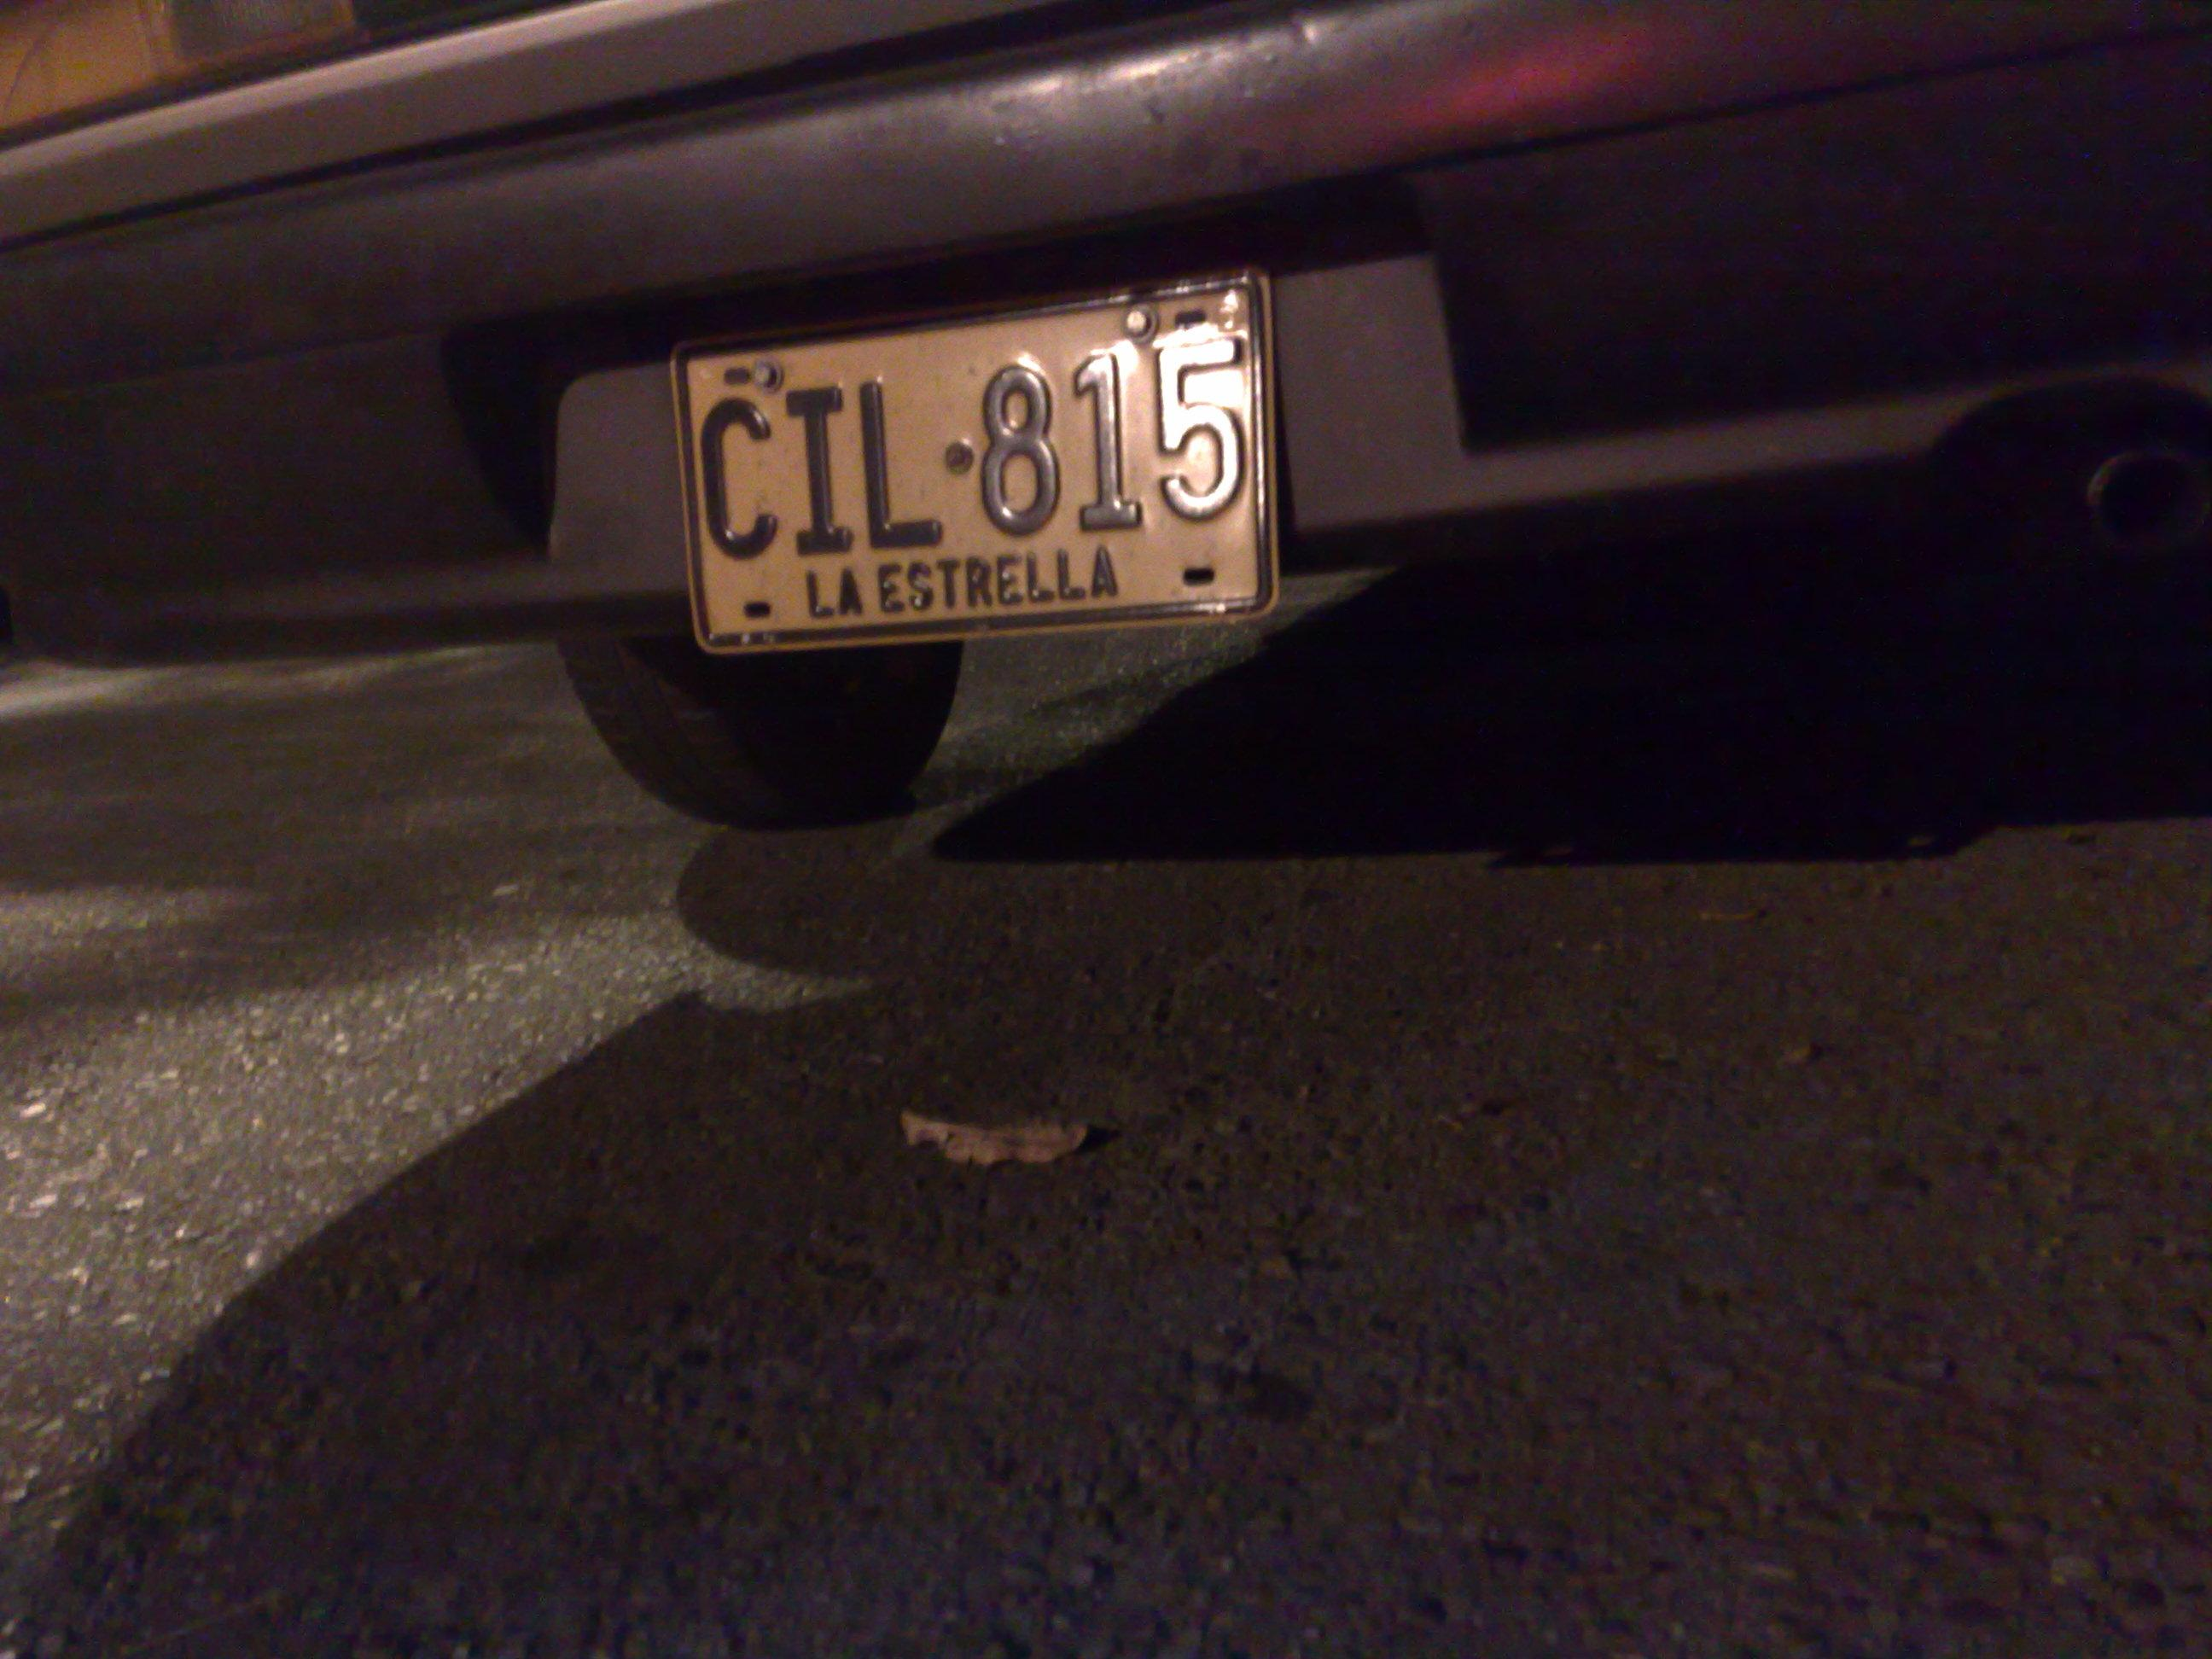placas: (637, 244, 1295, 668)
